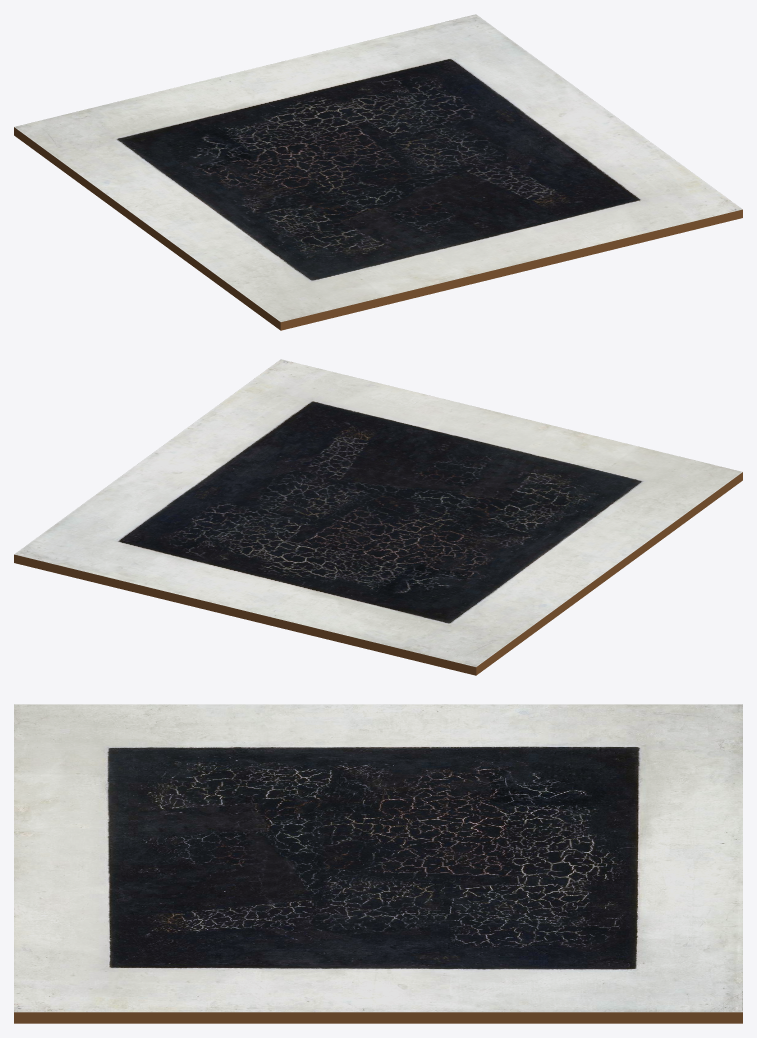
The model's file is puzzle_007.fbx.
The picture shows the model from 3 angles, top to bottom: view 1: azimuth 30°, elevation 25°; view 2: azimuth 150°, elevation 25°; view 3: azimuth 270°, elevation 25°; orthographic projection. The views are drawn at different scales.
Parts seen in each view (by area): view 1: piece_r00_c00, piece_r00_c01, piece_r01_c00, piece_r00_c02, piece_r02_c00, piece_r01_c01, piece_r01_c02, piece_r02_c01, piece_r02_c02; view 2: piece_r02_c00, piece_r00_c00, piece_r01_c00, piece_r00_c01, piece_r02_c01, piece_r01_c01, piece_r00_c02, piece_r02_c02, piece_r01_c02; view 3: piece_r00_c02, piece_r00_c00, piece_r01_c02, piece_r00_c01, piece_r01_c00, piece_r01_c01, piece_r02_c02, piece_r02_c00, piece_r02_c01.
Part boxes in pixels (box(x1,y1,x2,y2)): piece_r00_c00: box(192, 219, 434, 330); piece_r00_c01: box(346, 182, 588, 292); piece_r01_c00: box(103, 154, 345, 265); piece_r00_c02: box(500, 144, 742, 255); piece_r02_c00: box(14, 89, 256, 200); piece_r01_c01: box(257, 117, 499, 219); piece_r01_c02: box(411, 79, 653, 181); piece_r02_c01: box(168, 52, 410, 154); piece_r02_c02: box(322, 14, 564, 116); piece_r02_c00: box(322, 564, 564, 675); piece_r00_c00: box(500, 434, 742, 545); piece_r01_c00: box(411, 499, 653, 610); piece_r00_c01: box(346, 397, 588, 499); piece_r02_c01: box(168, 527, 410, 637); piece_r01_c01: box(257, 462, 499, 564); piece_r00_c02: box(192, 359, 434, 461); piece_r02_c02: box(14, 489, 256, 600); piece_r01_c02: box(103, 424, 345, 526); piece_r00_c02: box(14, 909, 302, 1023); piece_r00_c00: box(14, 704, 311, 825); piece_r01_c02: box(257, 909, 551, 1023); piece_r00_c01: box(14, 807, 304, 929); piece_r01_c00: box(257, 704, 543, 825); piece_r01_c01: box(257, 807, 549, 932); piece_r02_c02: box(500, 909, 742, 1023); piece_r02_c00: box(500, 704, 742, 828); piece_r02_c01: box(500, 807, 742, 929).
Bounding box in the file's own units: 400 × 7 × 400.
Materials: 1 (1 with a texture image).
